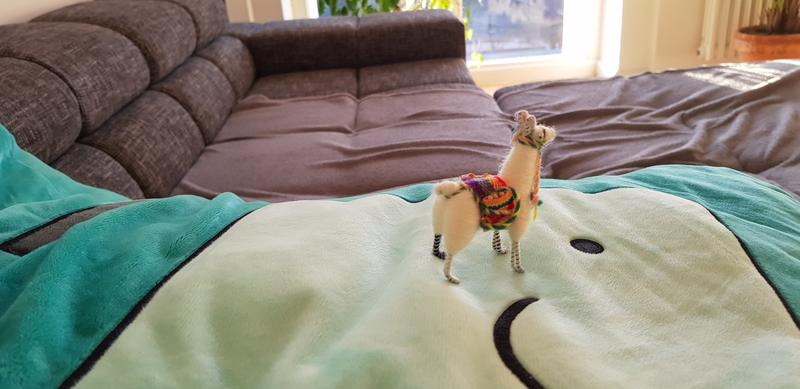Horse-Toy: (414, 109, 562, 290)
